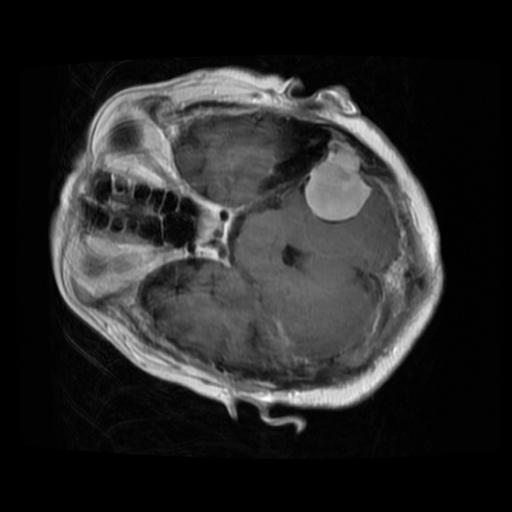meningioma: (304, 139, 372, 222)
